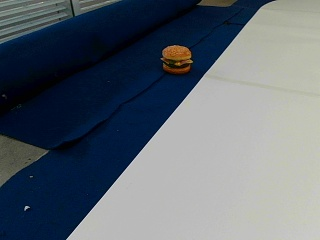burger: (161, 44, 192, 73)
